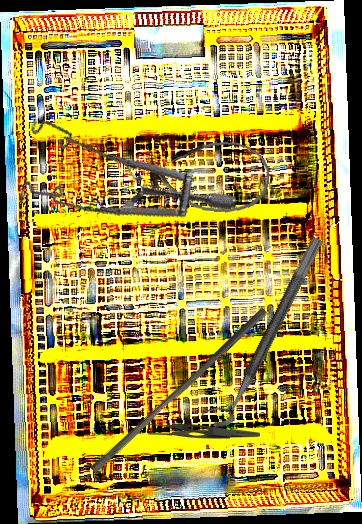Cannula: (147, 134, 272, 217)
Dressing Forceps: (141, 418, 261, 441)
Fixation Ring: (199, 228, 325, 433)
Pusher: (89, 300, 268, 480)
Speculum: (0, 74, 239, 261)
